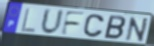B: (103, 14, 127, 41)
C: (82, 13, 106, 39)
F: (59, 10, 87, 36)
L: (20, 7, 37, 34)
N: (125, 17, 150, 43)
U: (40, 8, 66, 36)
